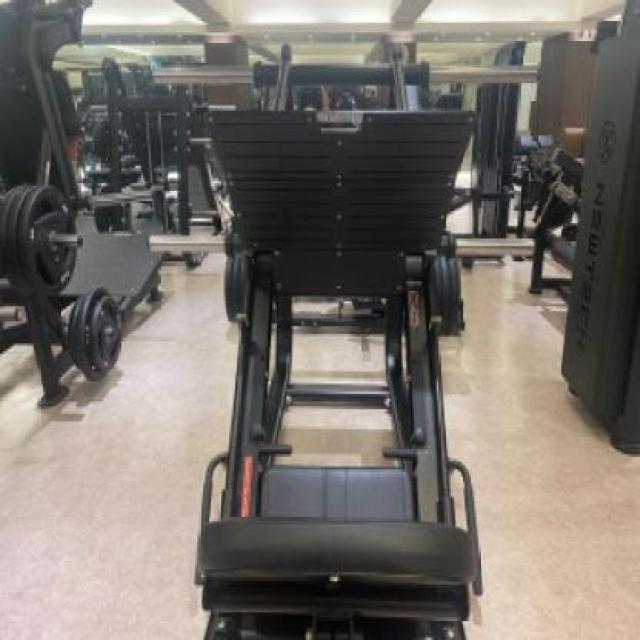leg press: (149, 38, 506, 631)
